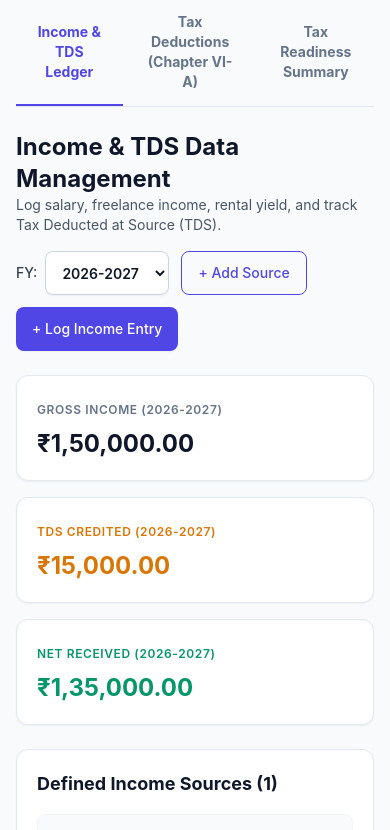
Test: IncomePage Component › opens log income entry modal on button click
The width and height of the screenshot is (390, 830).
Click the button "+ Log Income Entry" at (97,329), box [16,307,178,351]
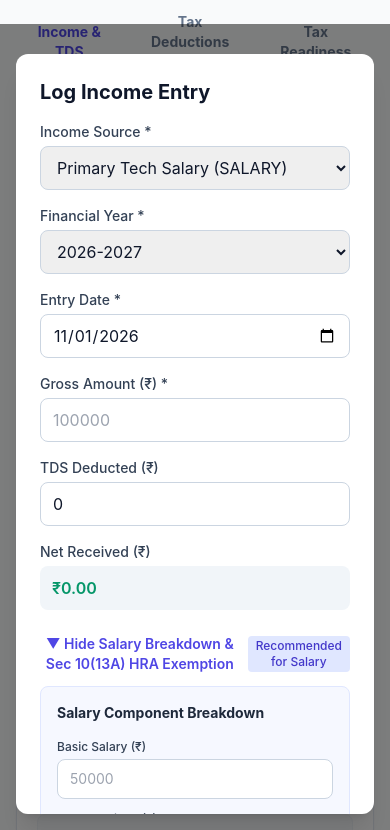
Expected: the heading "Log Income Entry" is shown, [40,80,210,104]
Expected: the text "Gross Amount (₹) *" is shown, [40,375,168,392]
